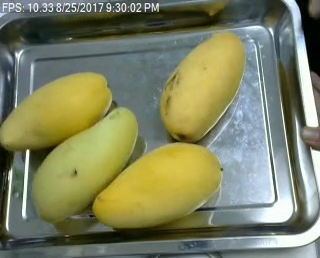Mango: (31, 106, 139, 221), (93, 142, 221, 227), (161, 31, 244, 141), (0, 71, 113, 150)
